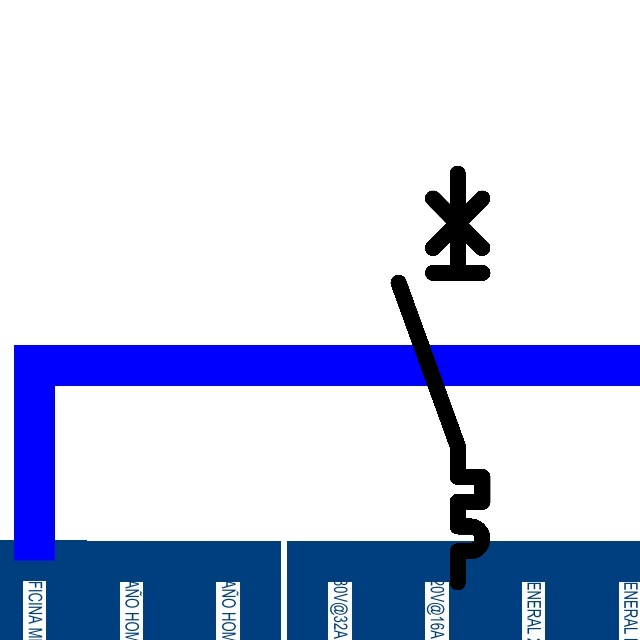interruptor_termomagnetico: (388, 163, 493, 593)
